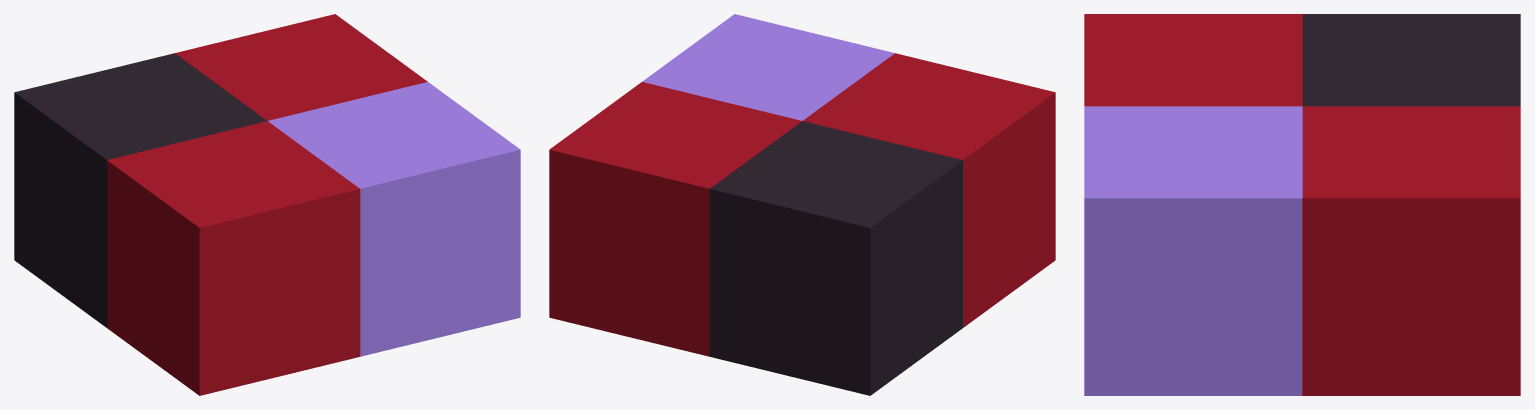
The model's file is LawnModel-1.obj.
The picture shows the model from 3 angles, left to right: view 1: azimuth 30°, elevation 25°; view 2: azimuth 150°, elevation 25°; view 3: azimuth 270°, elevation 25°; orthographic projection. The views are drawn at different scales.
Parts seen in each view (by area): view 1: LawnModel-1; view 2: LawnModel-1; view 3: LawnModel-1.
Part boxes in pixels (x1,y1,x2,y2): LawnModel-1: (14,14,520,395); LawnModel-1: (549,14,1055,395); LawnModel-1: (1084,14,1520,395).
Size of the model in its own units: 2 by 1 by 2.
Materials: 1 (1 with a texture image).
